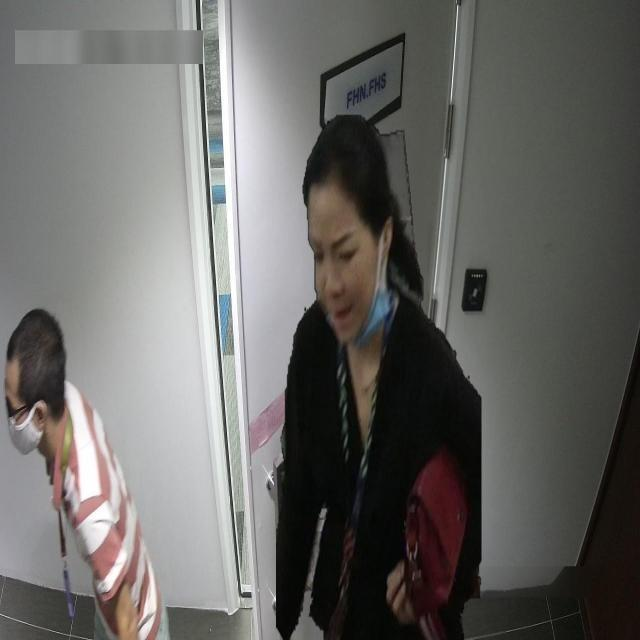hairnet: (309, 228, 391, 344)
